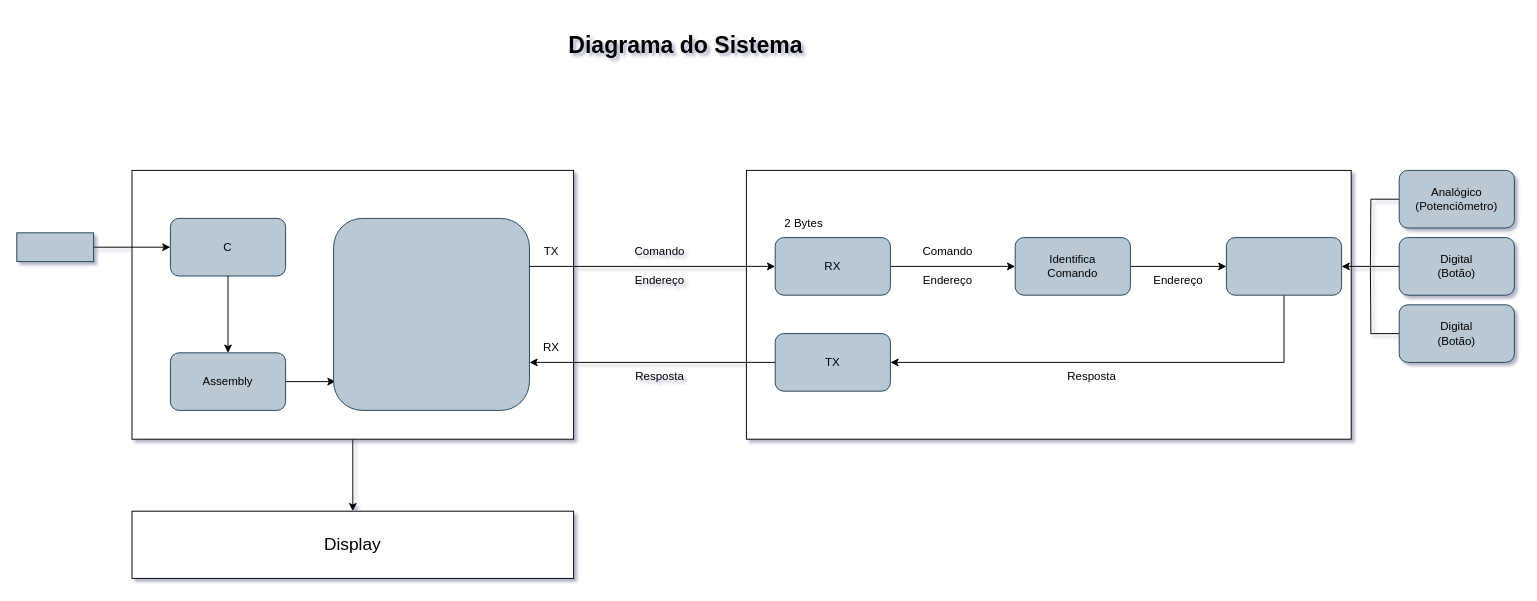
Image size: 1537x601. Some labels were removed from this diagram. The shapes that lost their labels are listed below. From the top down, each one's box as (x1, y1, x2, y2) in pixels, then its label:
(16, 232, 94, 262): ENTRADA DO USUÁRIO
(1225, 237, 1342, 295): Interface
(131, 169, 574, 439): SBC
(333, 217, 529, 410): UART
(745, 169, 1351, 439): NodeMCU
